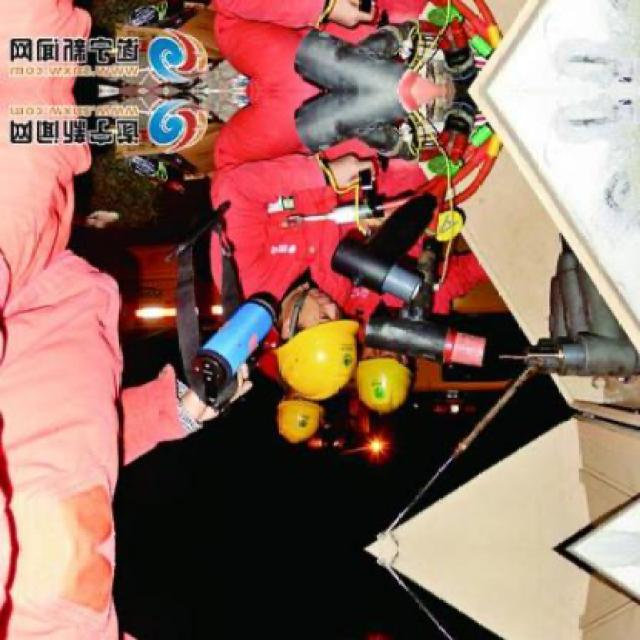con casco: (243, 281, 378, 410), (354, 350, 408, 418), (270, 401, 324, 454)
